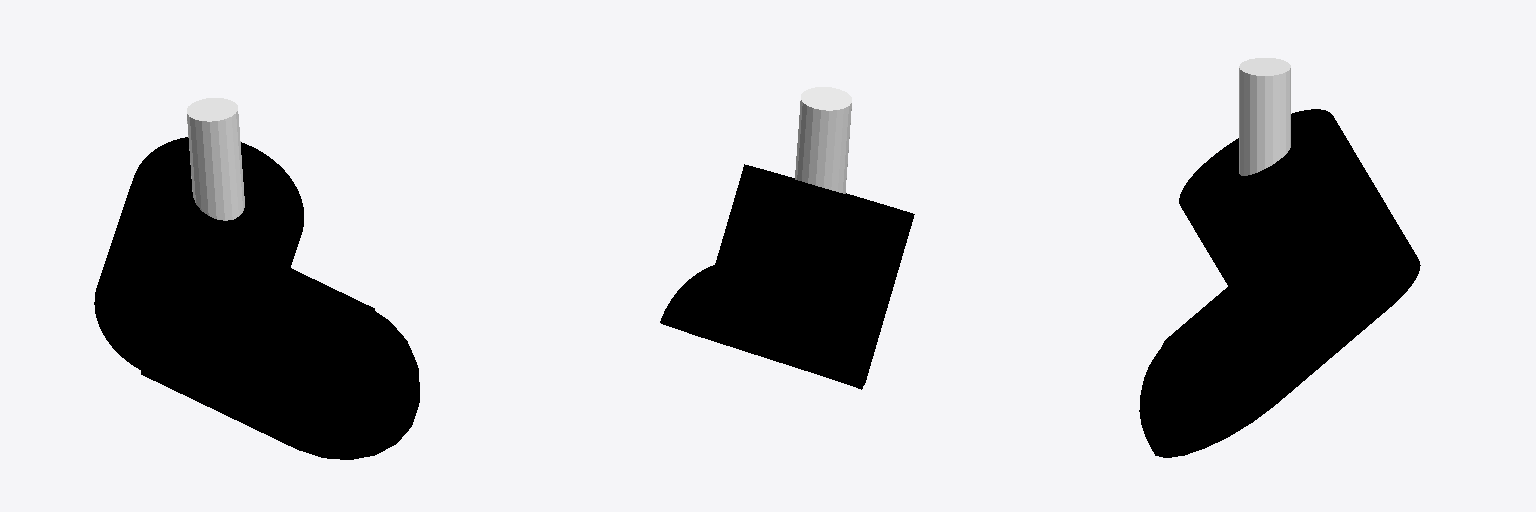
Rendered from right_shoe.obj.
The picture shows the model from 3 angles: view 1: azimuth 30°, elevation 25°; view 2: azimuth 150°, elevation 25°; view 3: azimuth 270°, elevation 25°; orthographic projection.
Parts seen in each view (by area): view 1: leg_right_lower2, leg_right_lower; view 2: leg_right_lower2, leg_right_lower; view 3: leg_right_lower2, leg_right_lower.
Part boxes in pixels (left/top/right/bottom): leg_right_lower2: left=94, top=137, right=419, bottom=459; leg_right_lower: left=187, top=98, right=244, bottom=220; leg_right_lower2: left=660, top=164, right=914, bottom=389; leg_right_lower: left=795, top=87, right=851, bottom=193; leg_right_lower2: left=1139, top=109, right=1420, bottom=457; leg_right_lower: left=1239, top=58, right=1290, bottom=175.
Bounding box in the file's own units: 2.46 × 3.08 × 2.36.